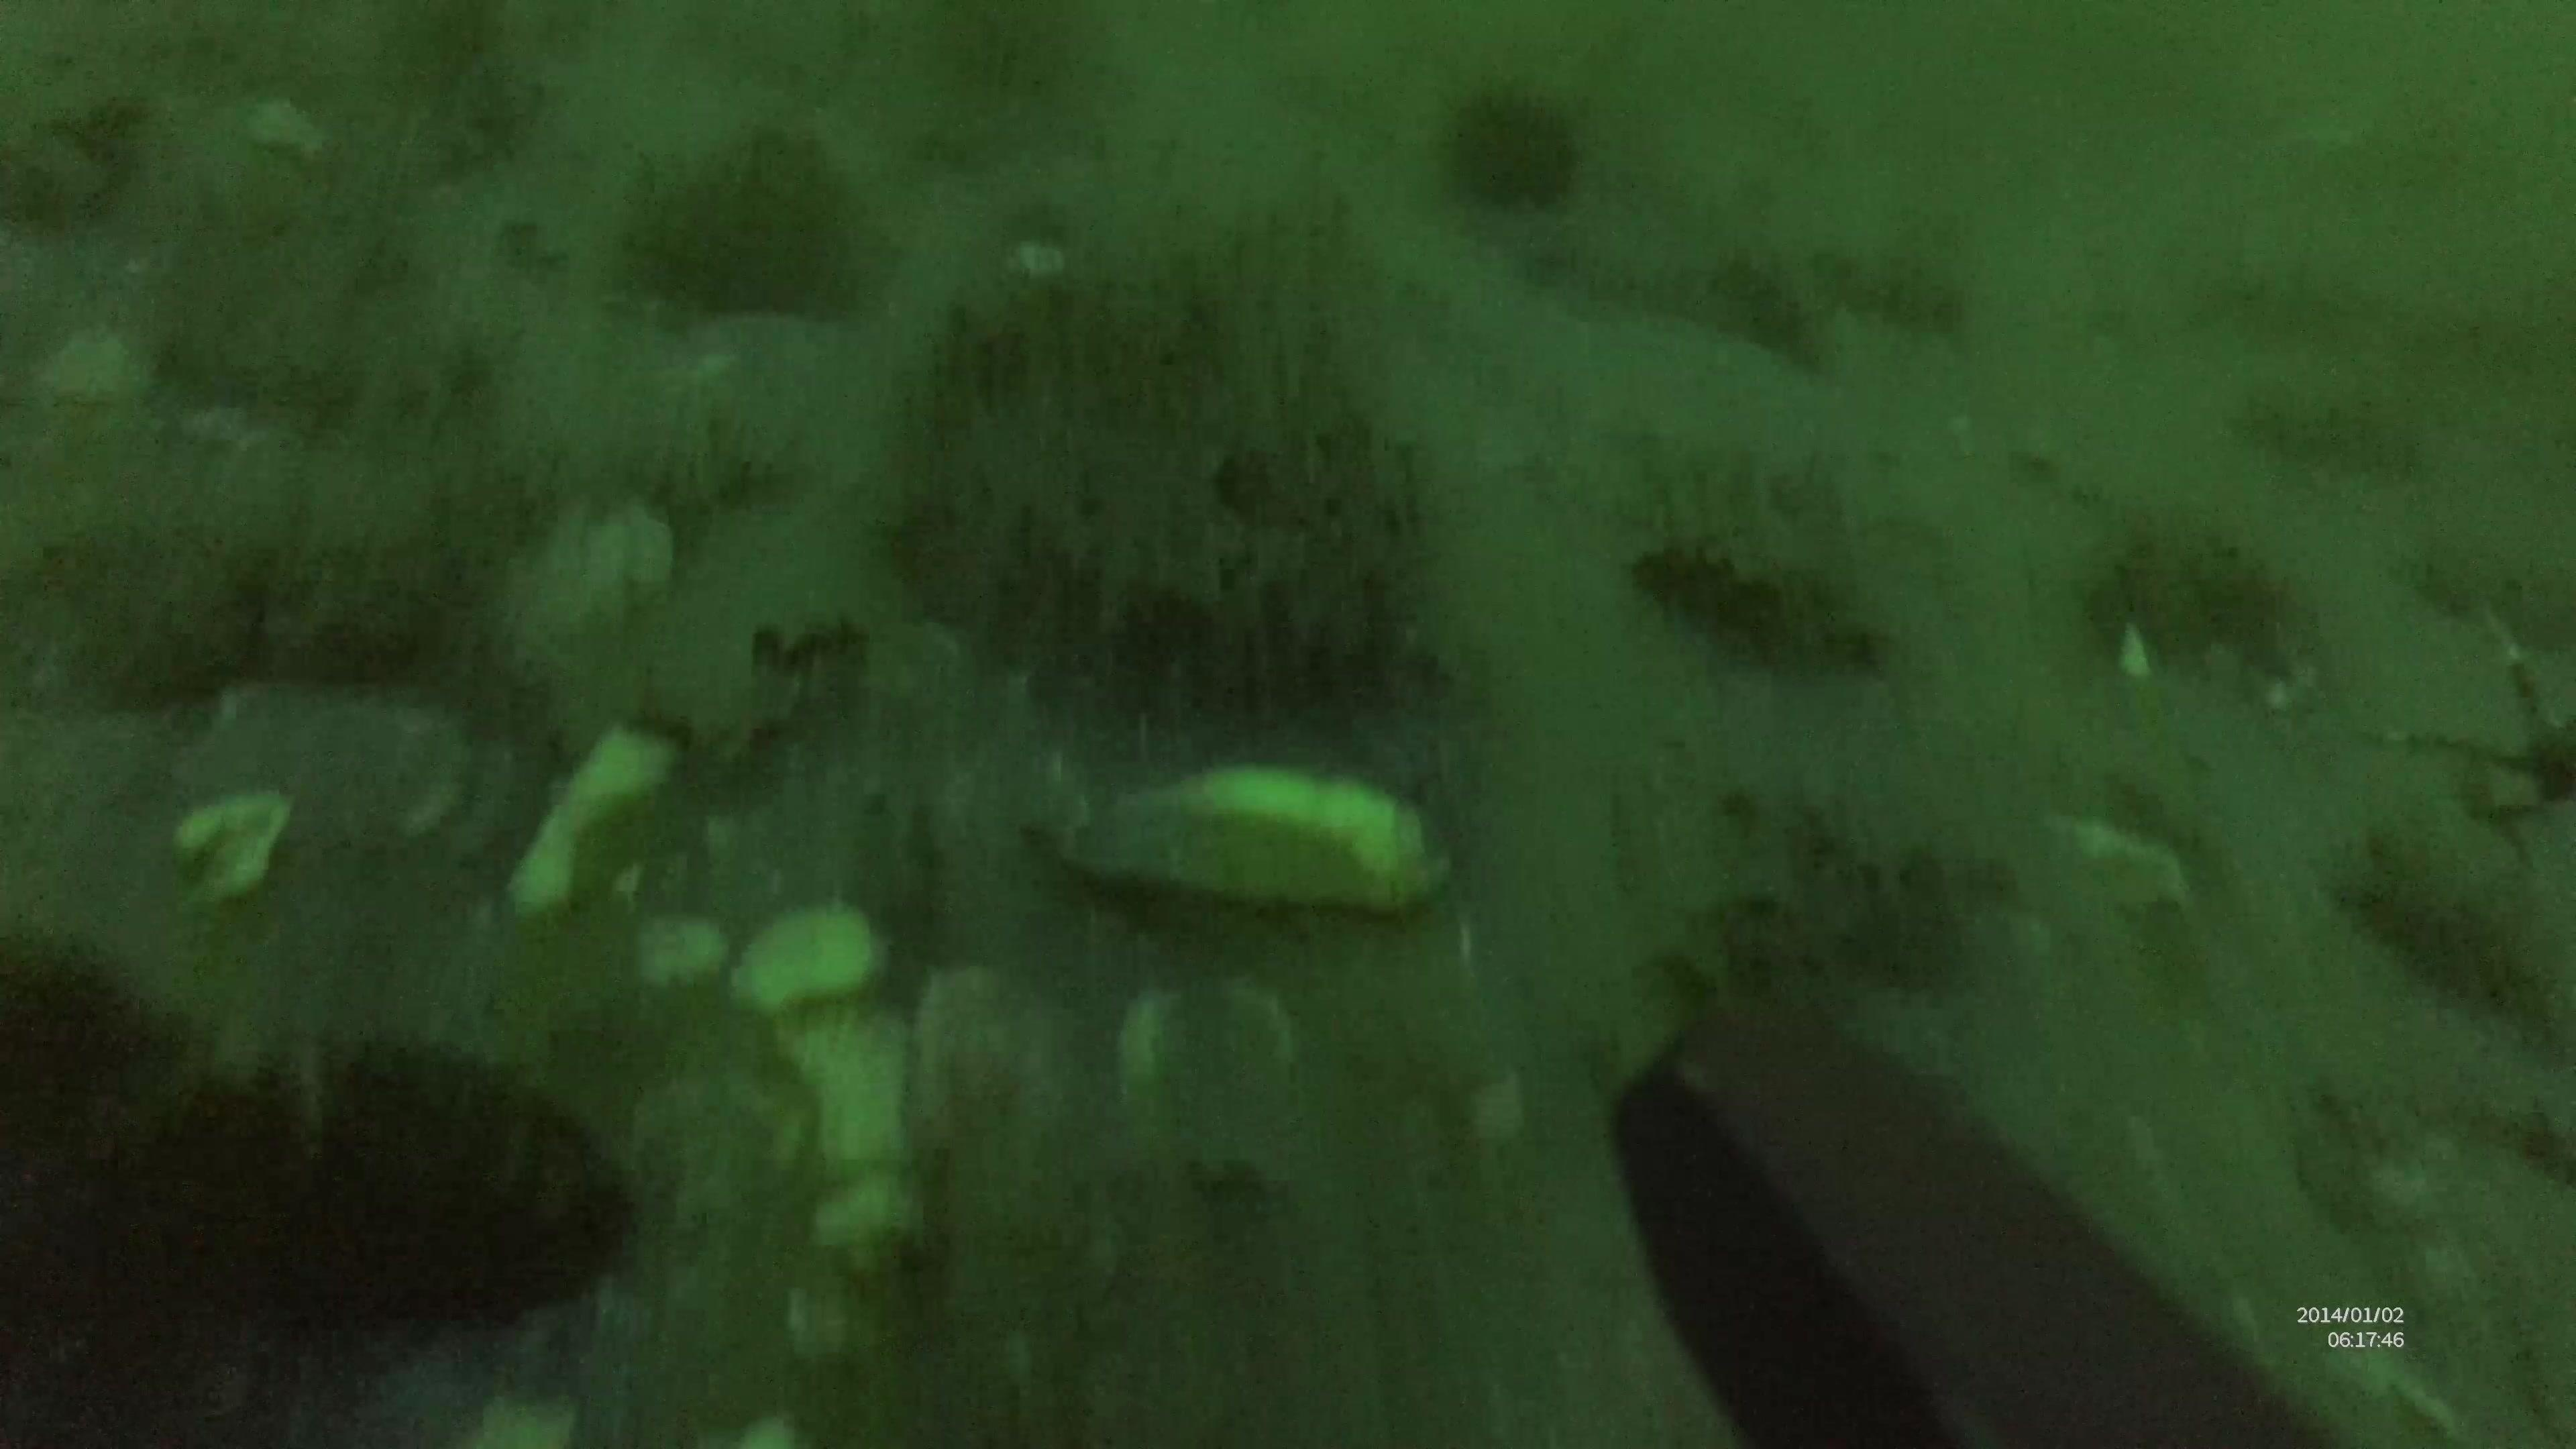echinus: (1433, 76, 1591, 221)
holothurian: (1624, 518, 1893, 683)
